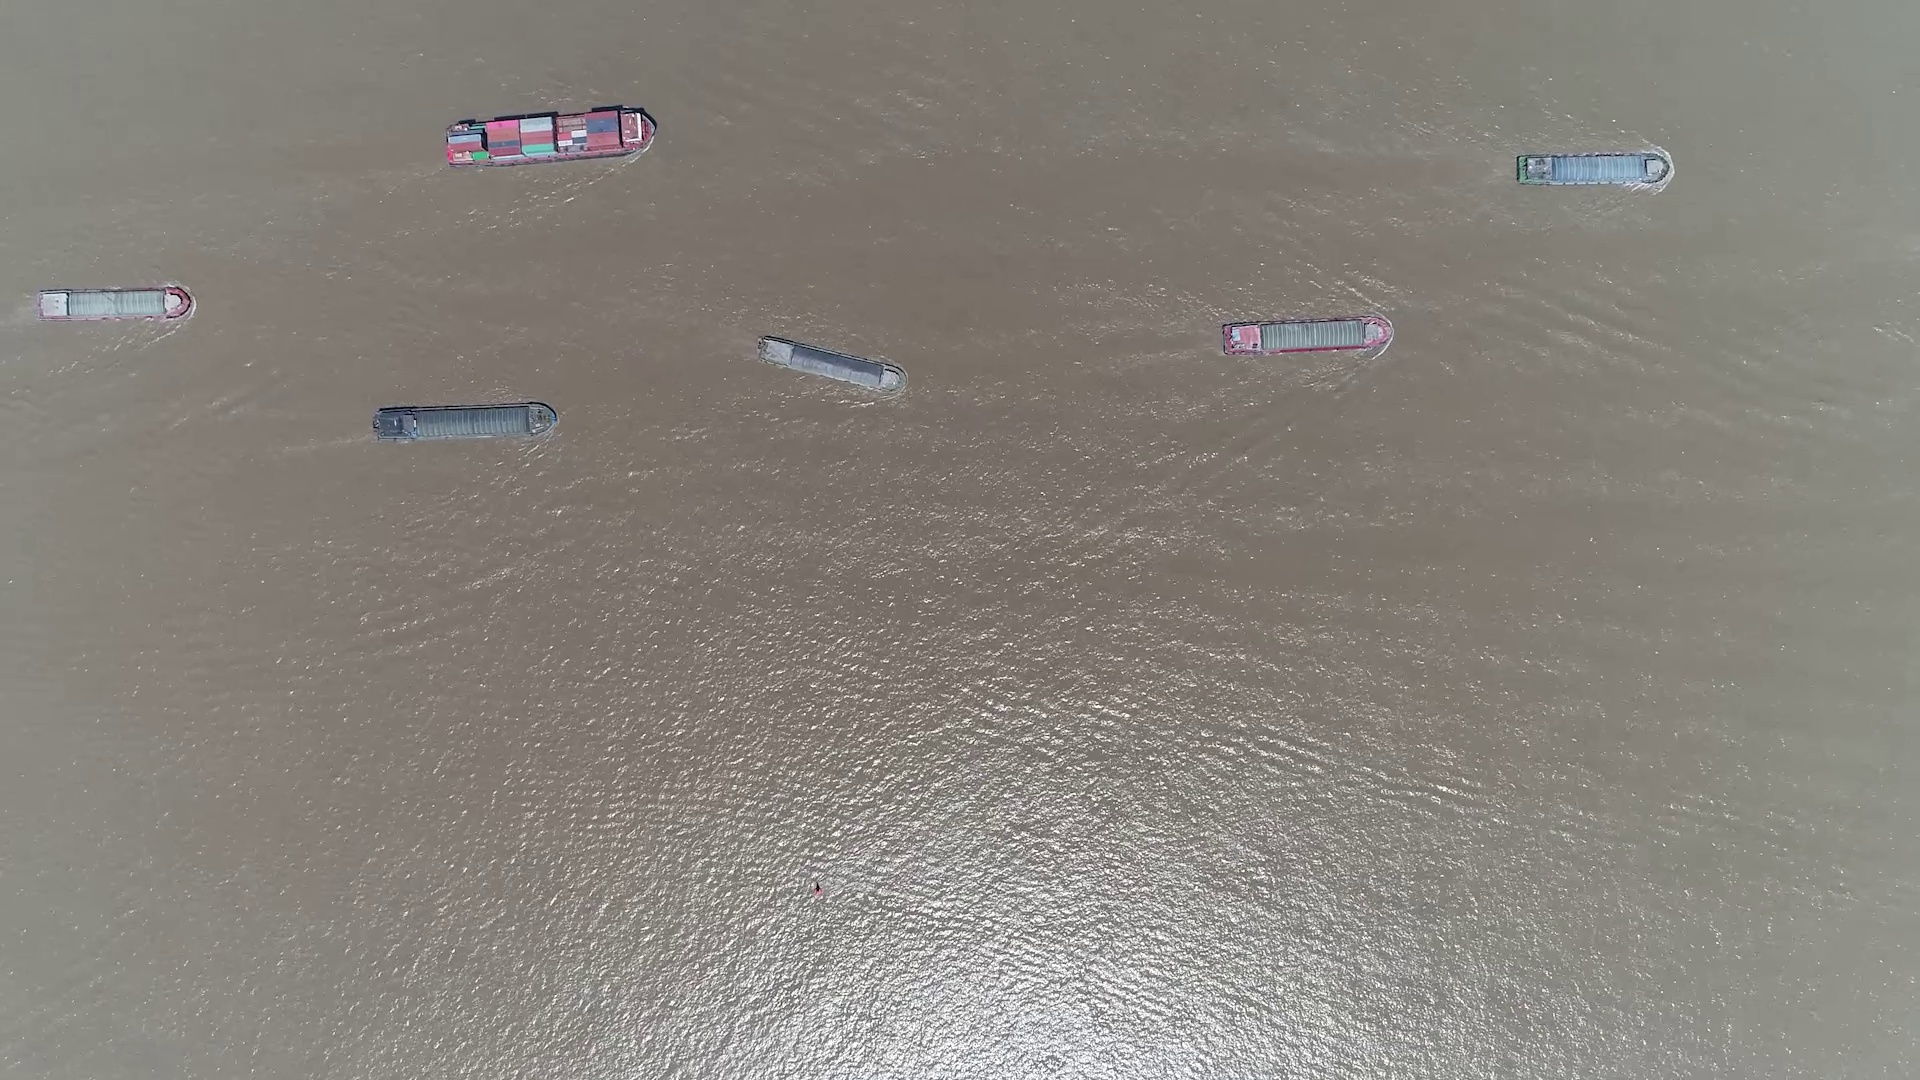ship: (440, 109, 655, 166), (756, 336, 906, 390), (372, 404, 555, 443), (1222, 316, 1393, 355), (34, 287, 191, 320), (1516, 154, 1665, 185)
